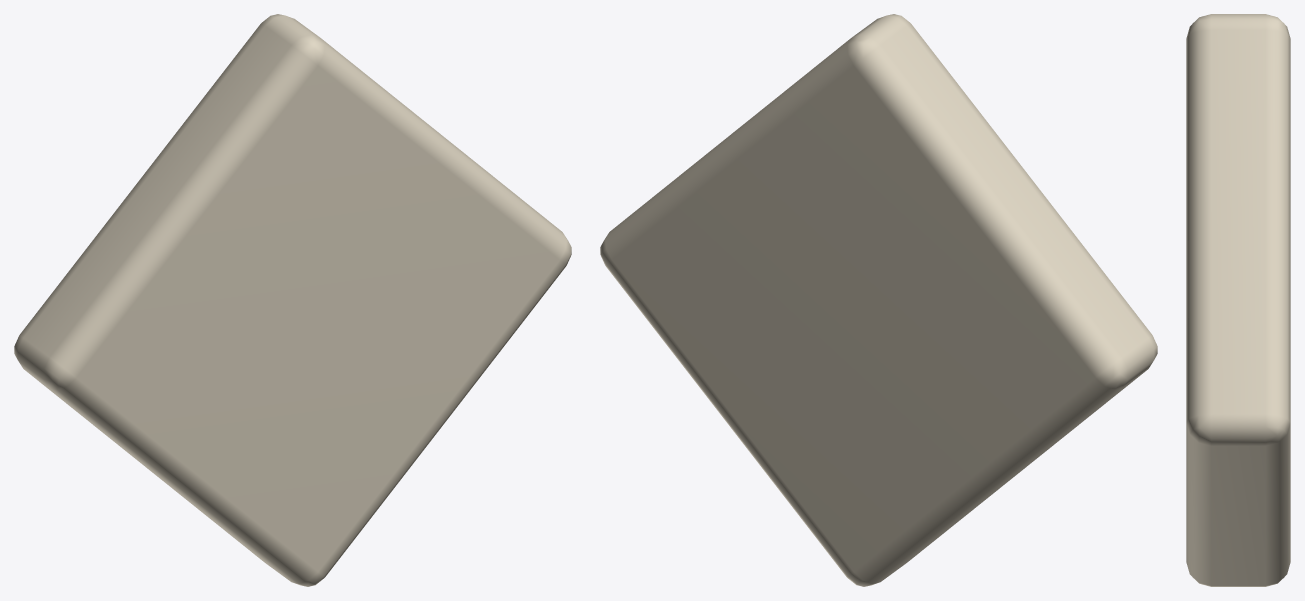
The model's file is shape-rhombus-colorless.glb.
The picture shows the model from 3 angles, left to right: view 1: azimuth 30°, elevation 25°; view 2: azimuth 150°, elevation 25°; view 3: azimuth 270°, elevation 25°; orthographic projection. The views are drawn at different scales.
Parts seen in each view (by area): view 1: solid rhombus; view 2: solid rhombus; view 3: solid rhombus.
Boxes of the visible parts, x1,y1,x2,y2 form: solid rhombus: [14, 14, 571, 586]; solid rhombus: [600, 14, 1157, 586]; solid rhombus: [1186, 14, 1290, 586].
Size of the model in its own units: 1.5 by 1.5 by 0.25.
